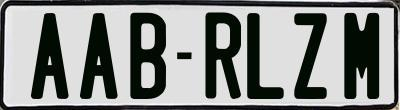A: (78, 12, 116, 104), (28, 11, 66, 100)
B: (128, 11, 170, 103)
L: (244, 10, 283, 101)
M: (343, 11, 384, 97)
R: (204, 11, 241, 104)
Z: (291, 12, 326, 103)
